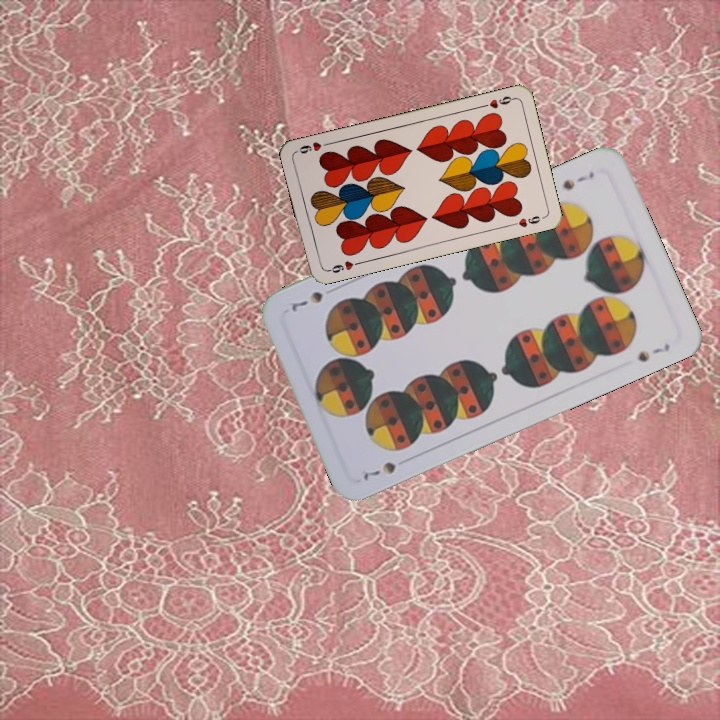H9: (477, 92, 517, 111), (323, 257, 363, 276)
S7: (357, 457, 399, 483), (558, 167, 597, 193)
